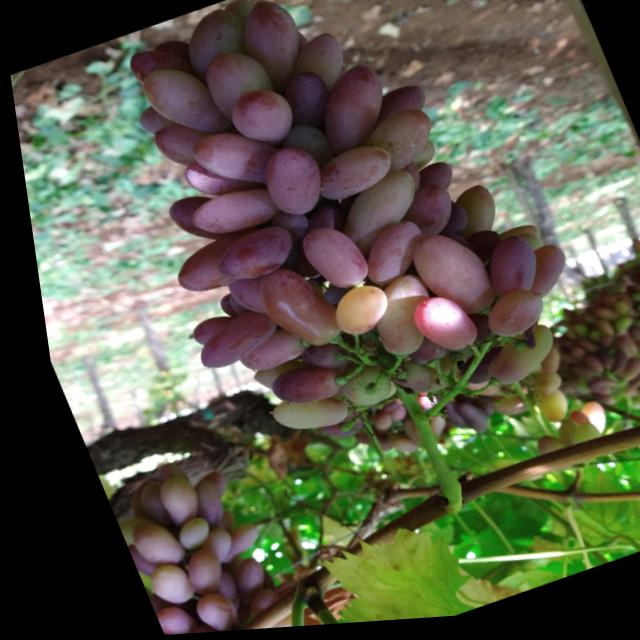grapes: (239, 257, 339, 363), (319, 172, 430, 267), (395, 226, 493, 332), (226, 0, 319, 107), (301, 64, 399, 165), (132, 55, 231, 152), (181, 119, 285, 207), (157, 225, 276, 301), (348, 273, 440, 366), (192, 43, 279, 131), (171, 4, 260, 88), (176, 306, 277, 376), (352, 108, 442, 182), (248, 142, 328, 225), (465, 232, 552, 308), (177, 181, 278, 246), (199, 223, 296, 290), (463, 327, 555, 396), (287, 221, 366, 301), (302, 143, 396, 209), (343, 222, 428, 294), (218, 84, 299, 158), (396, 292, 472, 366), (173, 147, 256, 212), (254, 386, 341, 446), (278, 32, 352, 102), (156, 187, 231, 254), (380, 185, 457, 250), (145, 113, 223, 177), (253, 359, 334, 416), (467, 289, 543, 349), (375, 350, 454, 407), (220, 325, 301, 380), (315, 283, 388, 344), (121, 39, 197, 97), (272, 70, 336, 136), (503, 247, 568, 308), (356, 85, 429, 138), (435, 187, 498, 248), (111, 514, 172, 575), (323, 364, 385, 417), (324, 363, 385, 416), (138, 473, 192, 530), (125, 558, 181, 612), (216, 274, 268, 324), (286, 338, 346, 381), (162, 546, 211, 598), (207, 557, 257, 607), (195, 523, 251, 566), (172, 588, 224, 634), (398, 163, 452, 205), (119, 480, 162, 531), (177, 312, 234, 350), (105, 477, 155, 520), (259, 207, 307, 250), (454, 232, 500, 276), (174, 477, 214, 527), (177, 526, 222, 568), (421, 208, 466, 248), (130, 102, 176, 140), (391, 335, 437, 373), (135, 600, 182, 636), (156, 516, 199, 553), (149, 37, 194, 72), (101, 512, 142, 547), (523, 395, 561, 432), (488, 227, 533, 255), (565, 406, 598, 444), (110, 539, 140, 580), (221, 0, 258, 33), (225, 587, 264, 618), (401, 142, 435, 177), (432, 232, 466, 265), (181, 470, 215, 503), (517, 376, 553, 405), (517, 436, 553, 464), (393, 166, 420, 199), (194, 511, 224, 540), (217, 291, 242, 318), (376, 439, 404, 462), (594, 357, 619, 382), (607, 363, 633, 387), (207, 295, 230, 321), (166, 621, 207, 635), (568, 360, 592, 382), (358, 414, 381, 436), (554, 414, 577, 435), (579, 380, 602, 398), (601, 322, 623, 339), (376, 408, 396, 426), (555, 351, 574, 367), (638, 307, 640, 327)
